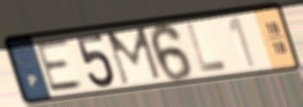1: (227, 16, 257, 69)
5: (72, 31, 117, 89)
6: (147, 20, 195, 83)
E: (33, 36, 87, 95)
L: (184, 20, 230, 75)
M: (104, 24, 165, 87)
